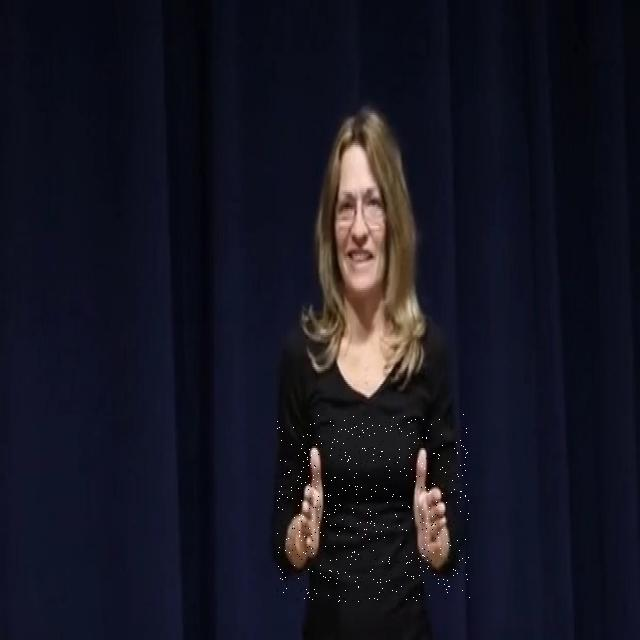manager: (276, 414, 470, 602)
